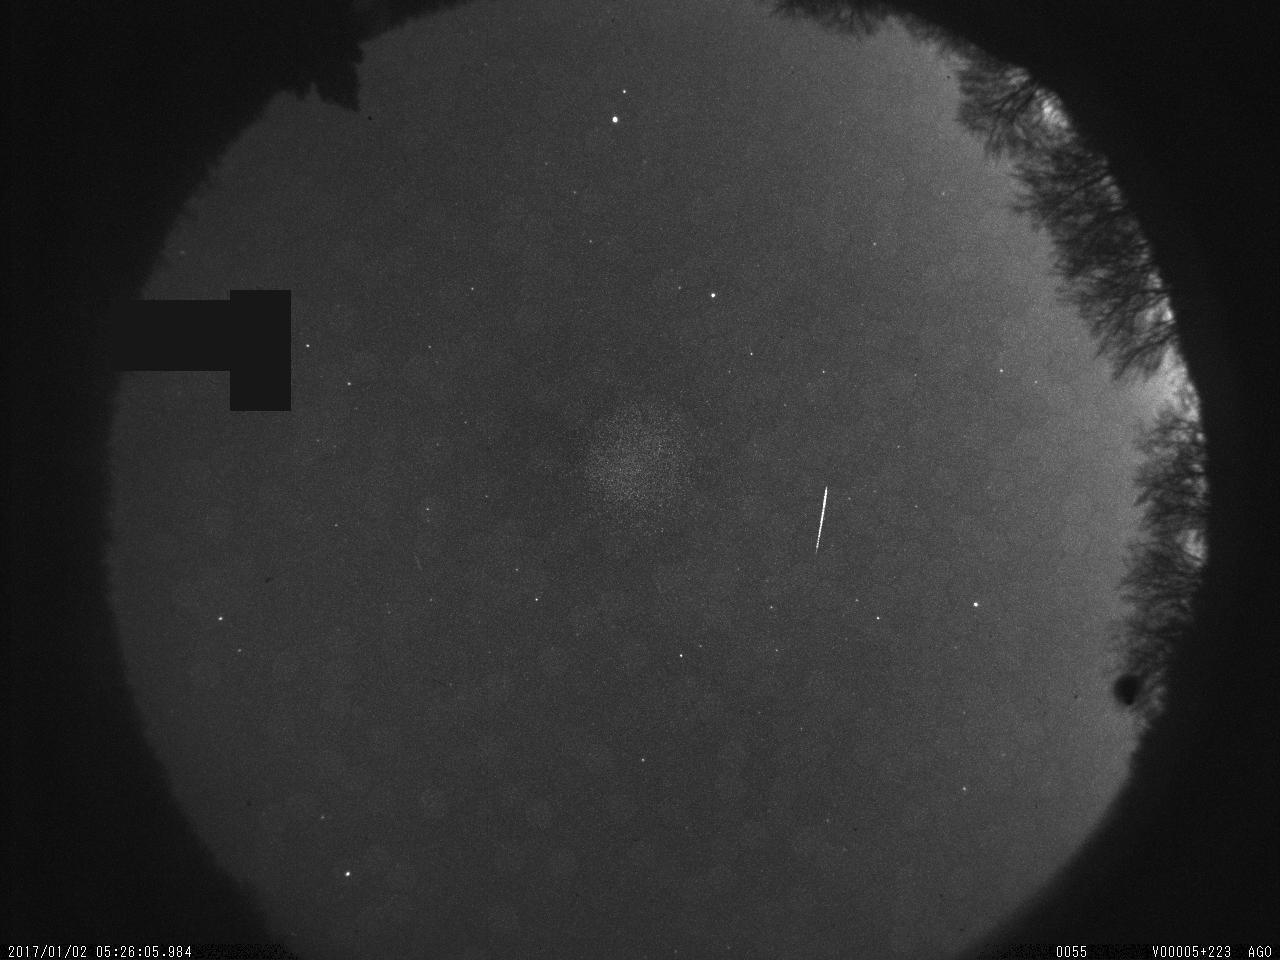Meteor: (804, 478, 841, 563)
